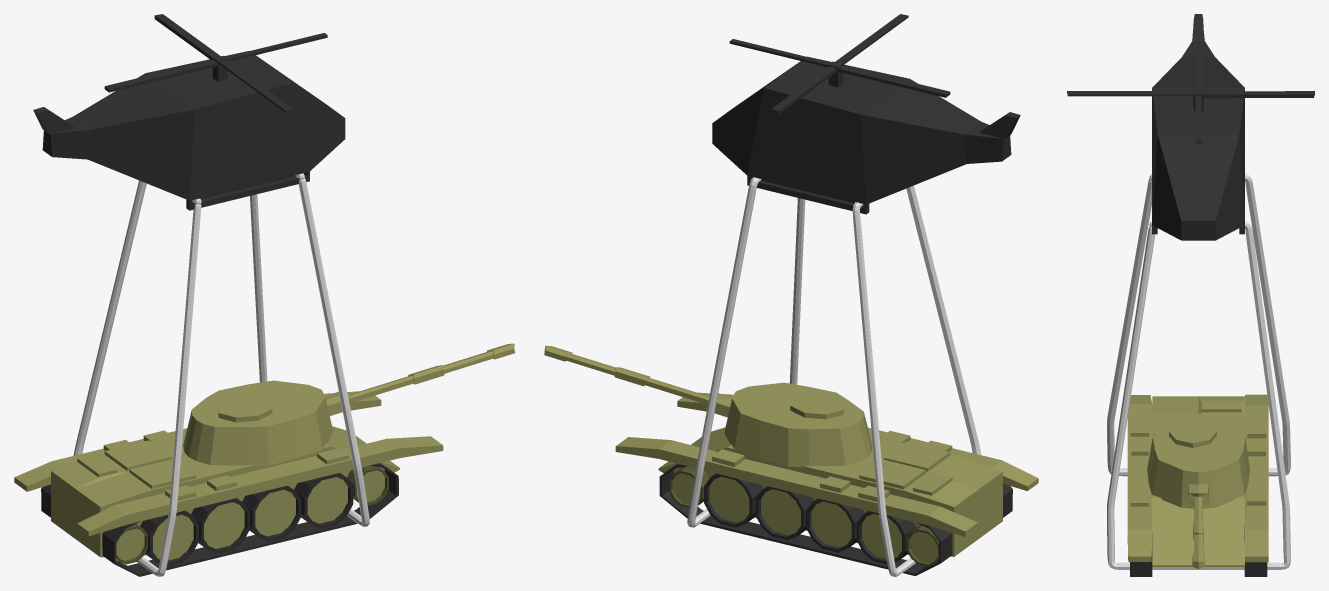
File: tank.glb
3 renders of one model, left to right at view 1: azimuth 30°, elevation 25°; view 2: azimuth 150°, elevation 25°; view 3: azimuth 270°, elevation 25°, orthographic. The views are drawn at different scales.
Visible parts, largest first — view 1: armature, Cube; view 2: armature, Cube; view 3: Cube, armature.
Part boxes in pixels (x1,y1,x2,y2): armature: (14, 343, 515, 576); Cube: (33, 14, 369, 576); armature: (544, 345, 1038, 575); Cube: (687, 14, 1020, 576); Cube: (1067, 14, 1314, 569); armature: (1127, 394, 1268, 576).
Bounding box in the file's own units: 31.36 × 28.93 × 14.95.
